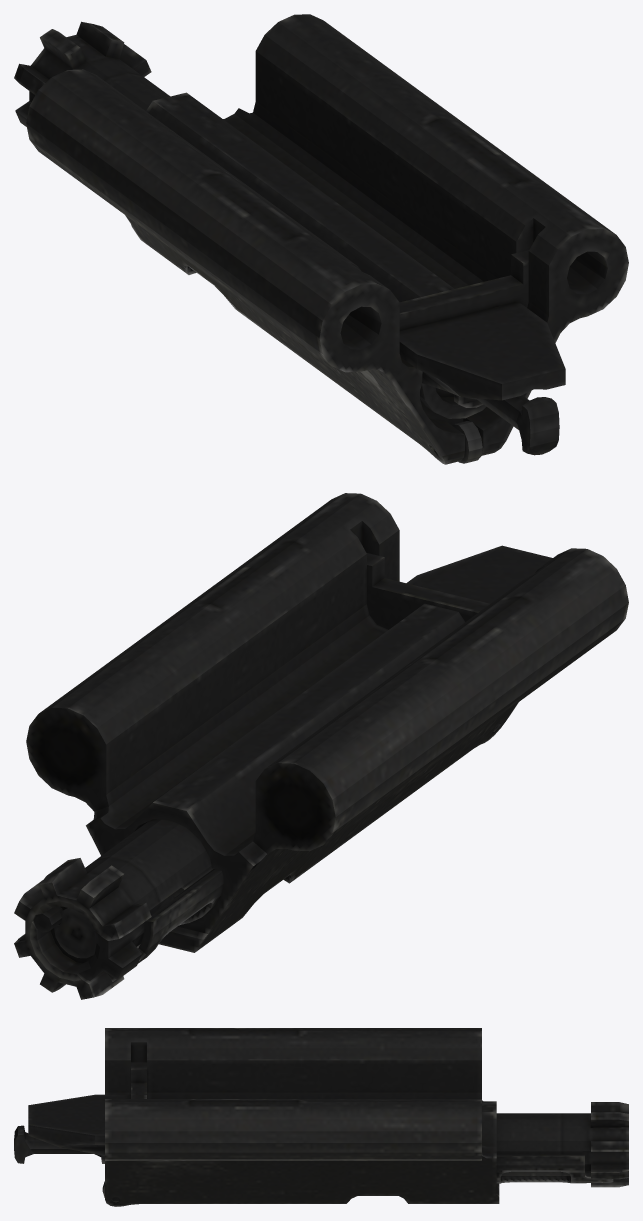
3 views of the same model, one above another, from view 1: azimuth 30°, elevation 25°; view 2: azimuth 150°, elevation 25°; view 3: azimuth 270°, elevation 25° (orthographic). The views are drawn at different scales.
Visible parts, largest first — view 1: TW_62e7c4fba689e8c9c50dfc38_PZ_Import; view 2: TW_62e7c4fba689e8c9c50dfc38_PZ_Import; view 3: TW_62e7c4fba689e8c9c50dfc38_PZ_Import.
Boxes of the visible parts, left/top/right/bottom form: TW_62e7c4fba689e8c9c50dfc38_PZ_Import: left=14, top=14, right=628, bottom=464; TW_62e7c4fba689e8c9c50dfc38_PZ_Import: left=14, top=493, right=628, bottom=999; TW_62e7c4fba689e8c9c50dfc38_PZ_Import: left=14, top=1028, right=628, bottom=1206.
Size of the model in its own units: 0.0292 by 0.0781 by 0.0189.
1 material, 1 textured.
